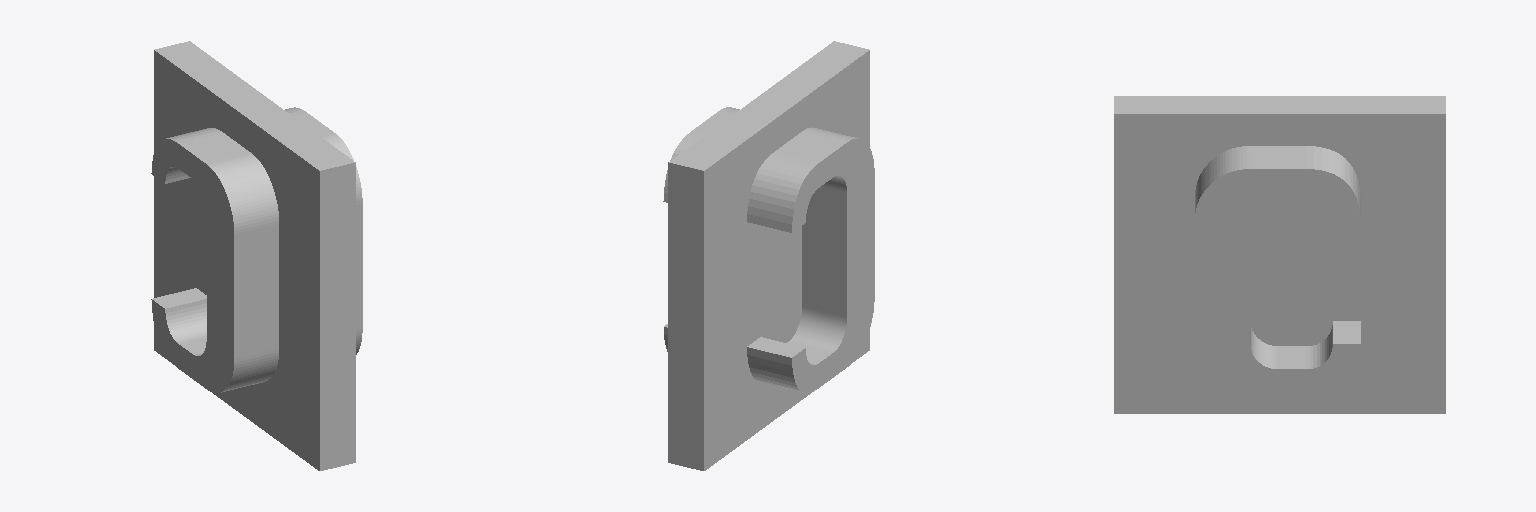
The model's file is letter_C.obj.
3 renders of one model, left to right at view 1: azimuth 30°, elevation 25°; view 2: azimuth 150°, elevation 25°; view 3: azimuth 270°, elevation 25°, orthographic.
Parts seen in each view (by area): view 1: window, Text; view 2: window, Text; view 3: window, Text.
Part boxes in pixels (bbox=[...]): window: bbox=[154, 41, 355, 470]; Text: bbox=[151, 107, 362, 392]; window: bbox=[668, 41, 869, 470]; Text: bbox=[663, 107, 874, 392]; window: bbox=[1114, 96, 1445, 413]; Text: bbox=[1195, 146, 1360, 393].
Size of the model in its own units: 0.894 by 2 by 2.